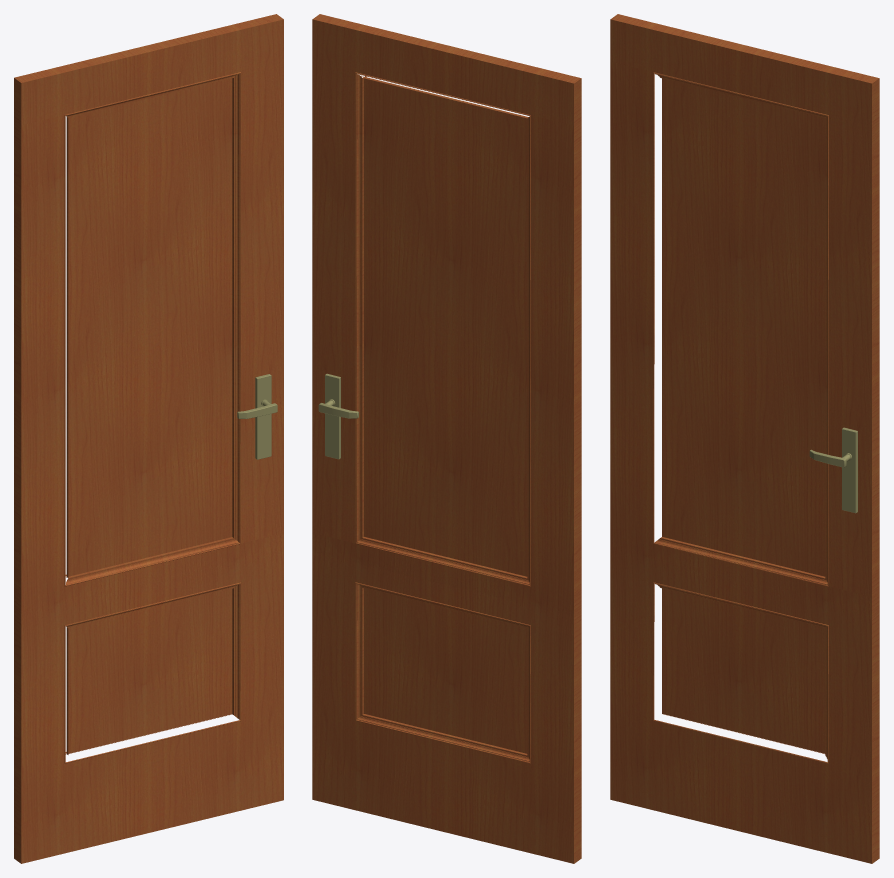
The model's file is door.gltf.
3 views of the same model, side by side, from view 1: azimuth 30°, elevation 25°; view 2: azimuth 150°, elevation 25°; view 3: azimuth 330°, elevation 25° (orthographic).
Parts seen in each view (by area): view 1: door, maneta_puerta; view 2: door, maneta_puerta; view 3: door, maneta_puerta.
Boxes of the visible parts, box(x1,y1,x2,y2) form: door: box(14, 14, 283, 863); maneta_puerta: box(237, 374, 277, 459); door: box(312, 14, 581, 863); maneta_puerta: box(318, 373, 358, 459); door: box(610, 14, 879, 863); maneta_puerta: box(809, 427, 857, 513).
Bounding box in the file's own units: 0.7128 × 2.03 × 0.1381.
Materials: 2 (1 with a texture image).
